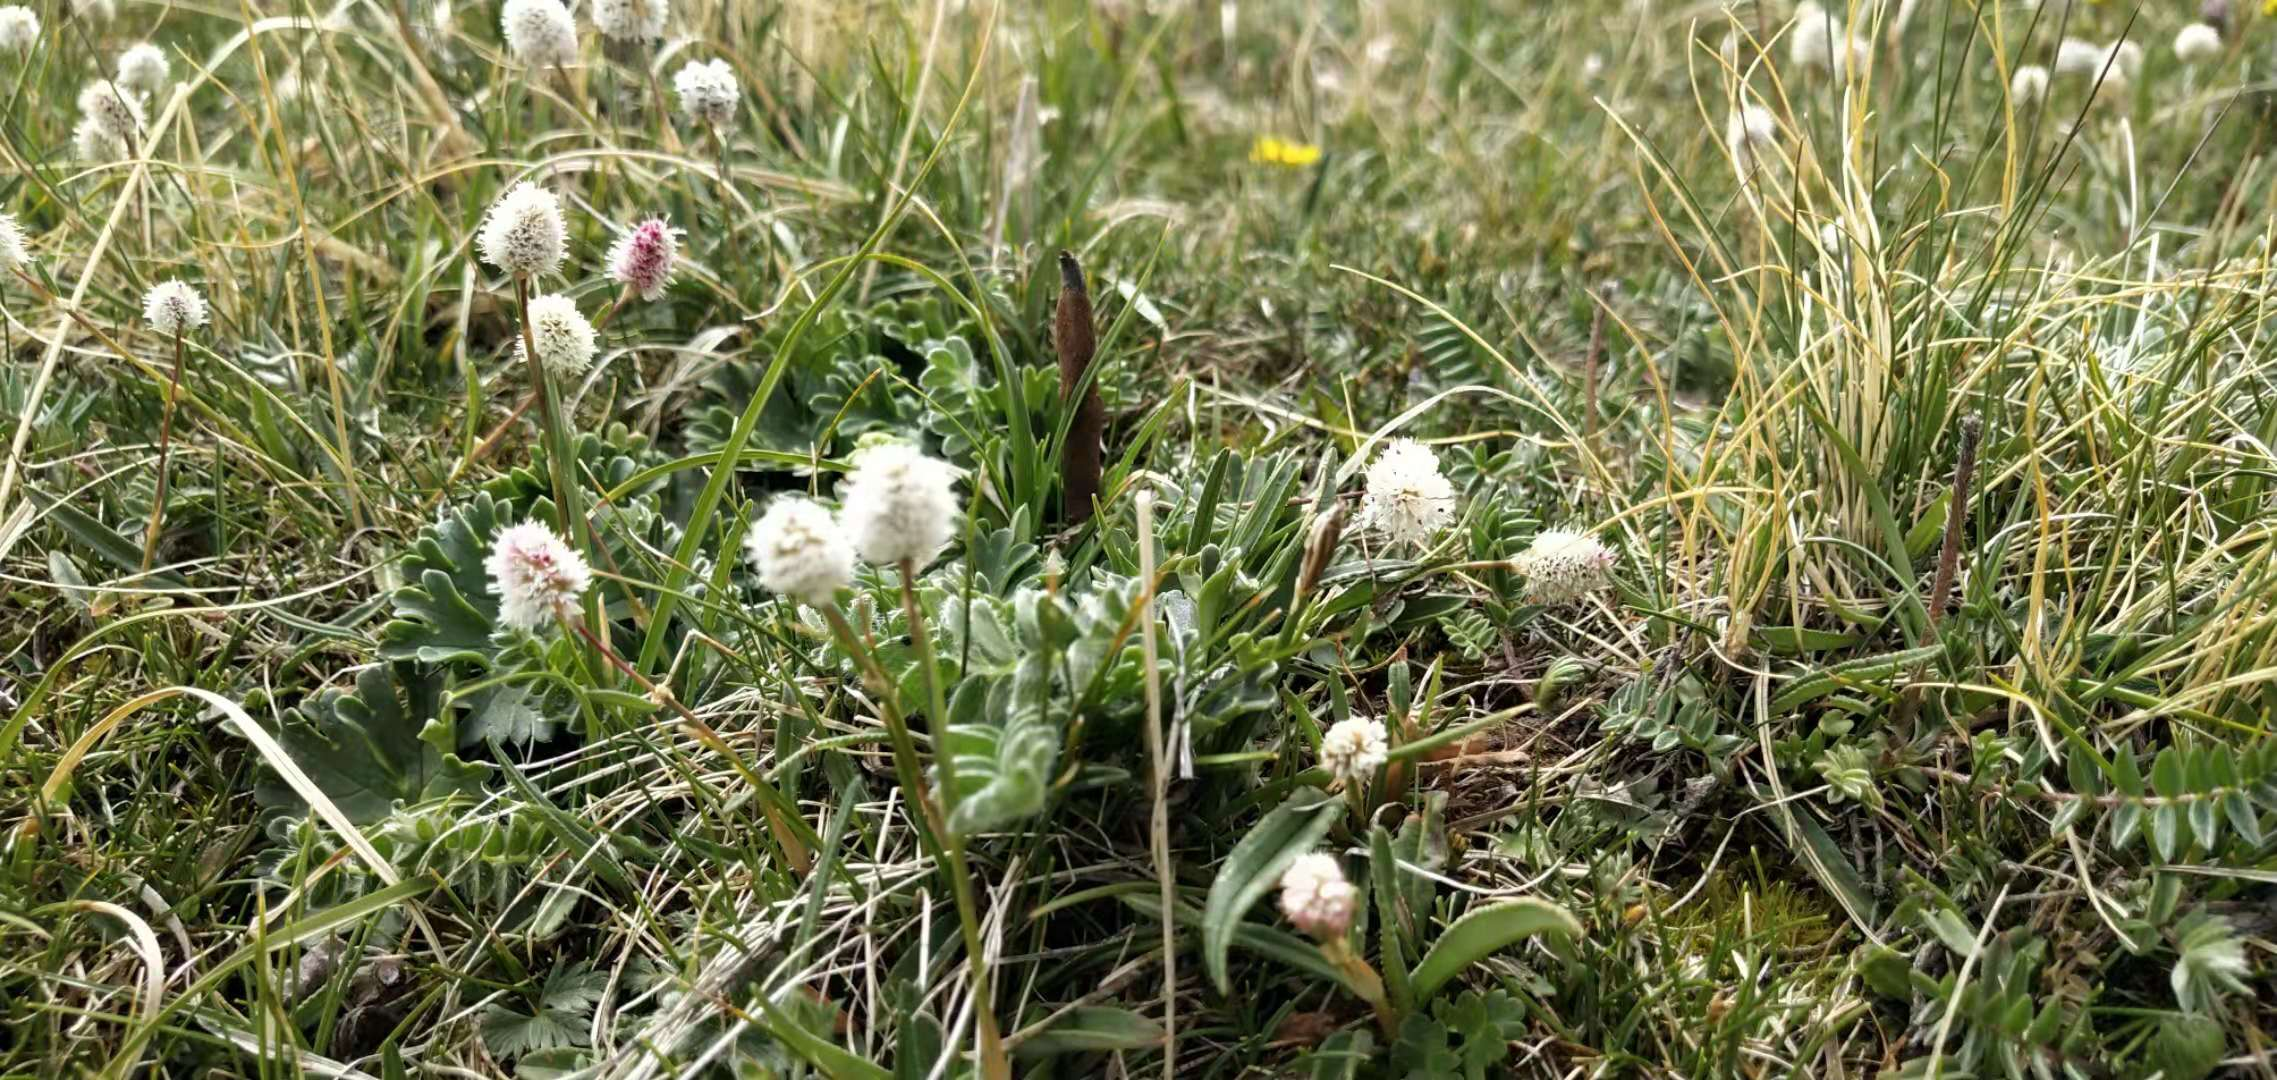cpf: (1044, 253, 1107, 536)
